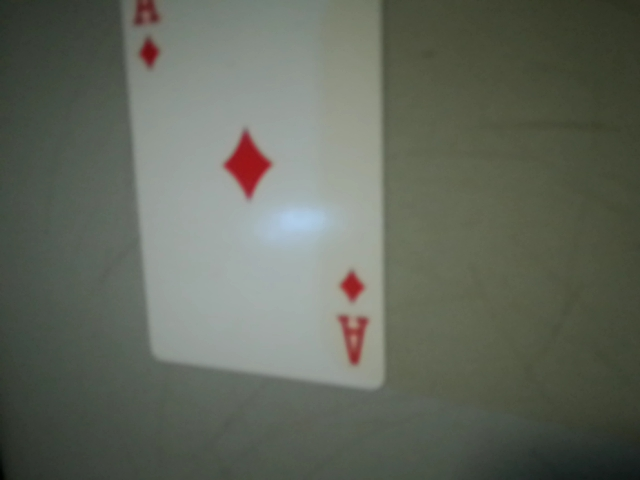fk a: (318, 255, 384, 383)
